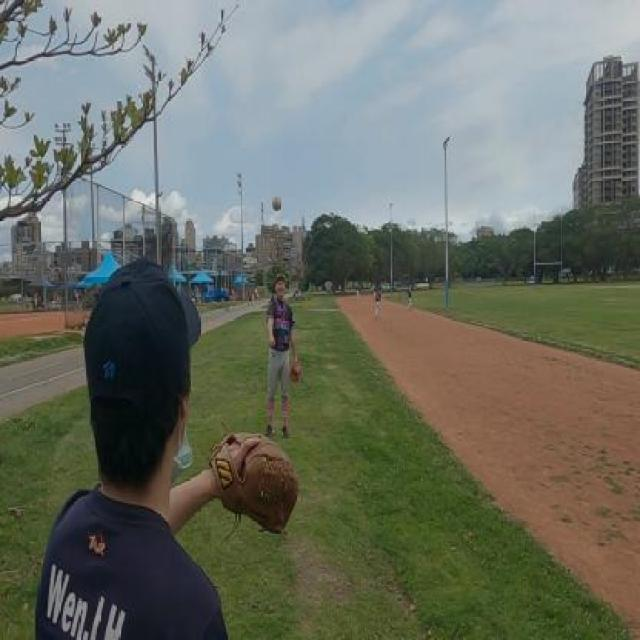baseball: (272, 194, 282, 212)
